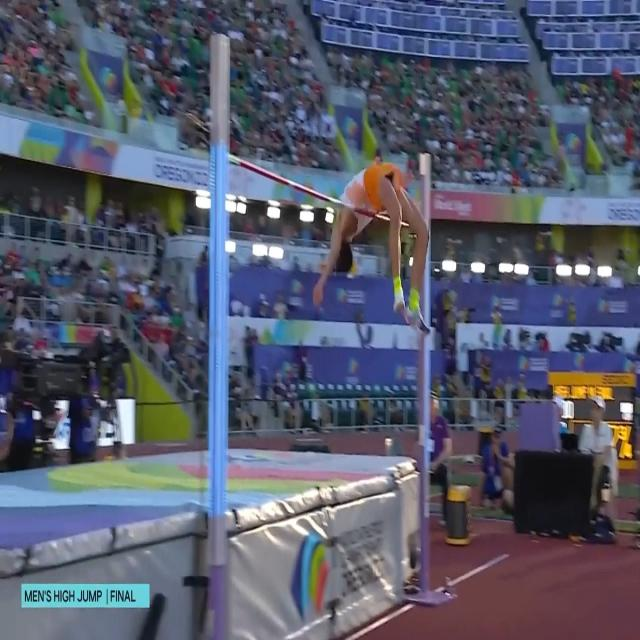jump: (311, 160, 432, 337)
